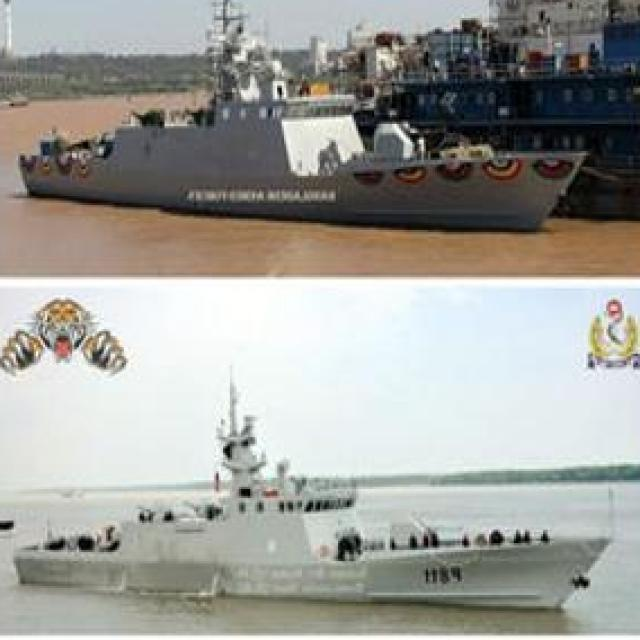navalvessels: (20, 376, 619, 620), (7, 0, 589, 225)
